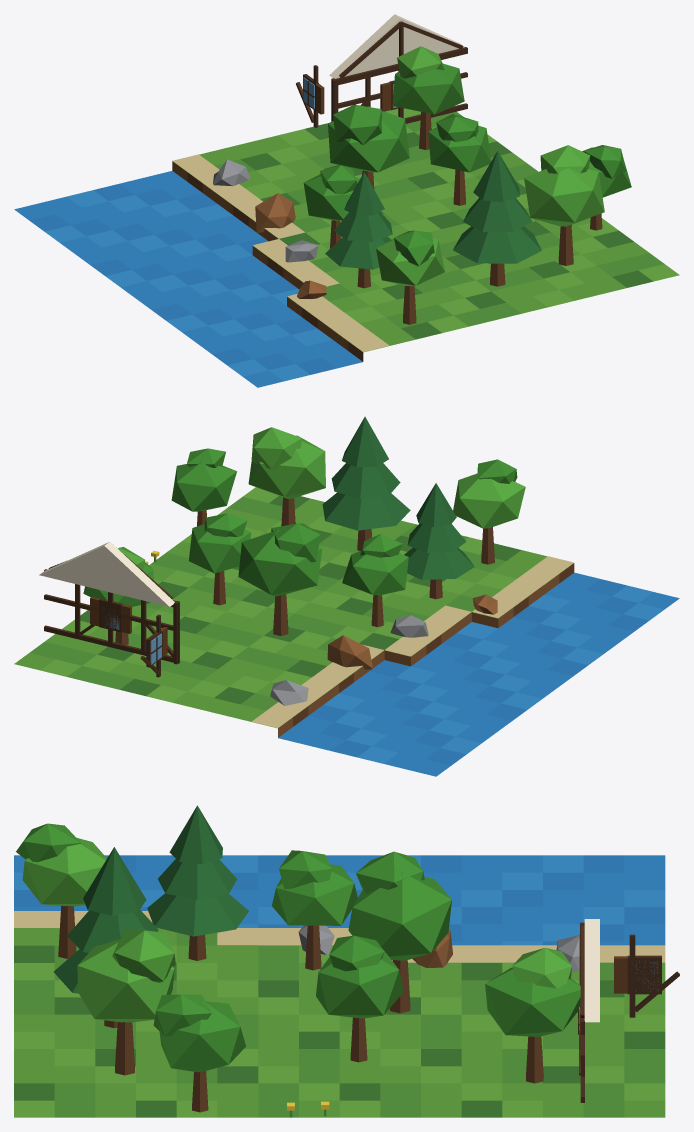
File: chunk_0_3.glb
3 renders of one model, top to bottom at view 1: azimuth 30°, elevation 25°; view 2: azimuth 150°, elevation 25°; view 3: azimuth 270°, elevation 25°, orthographic. The views are drawn at different scales.
Visible parts, largest first — view 1: chunk_0_3; view 2: chunk_0_3; view 3: chunk_0_3.
Part boxes in pixels (box(x1,y1,x2,y2)): chunk_0_3: box(14, 14, 679, 387); chunk_0_3: box(14, 416, 679, 776); chunk_0_3: box(14, 805, 679, 1117).
Bounding box in the file's own units: 16.44 × 5.28 × 16.36.
